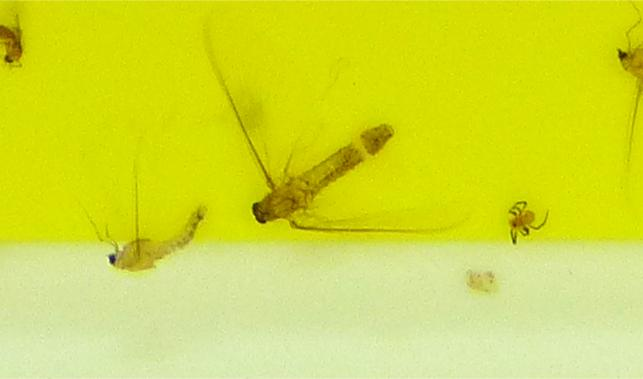Araneae: (508, 198, 543, 239)
Coleoptera: (228, 100, 395, 236), (100, 204, 210, 279)
